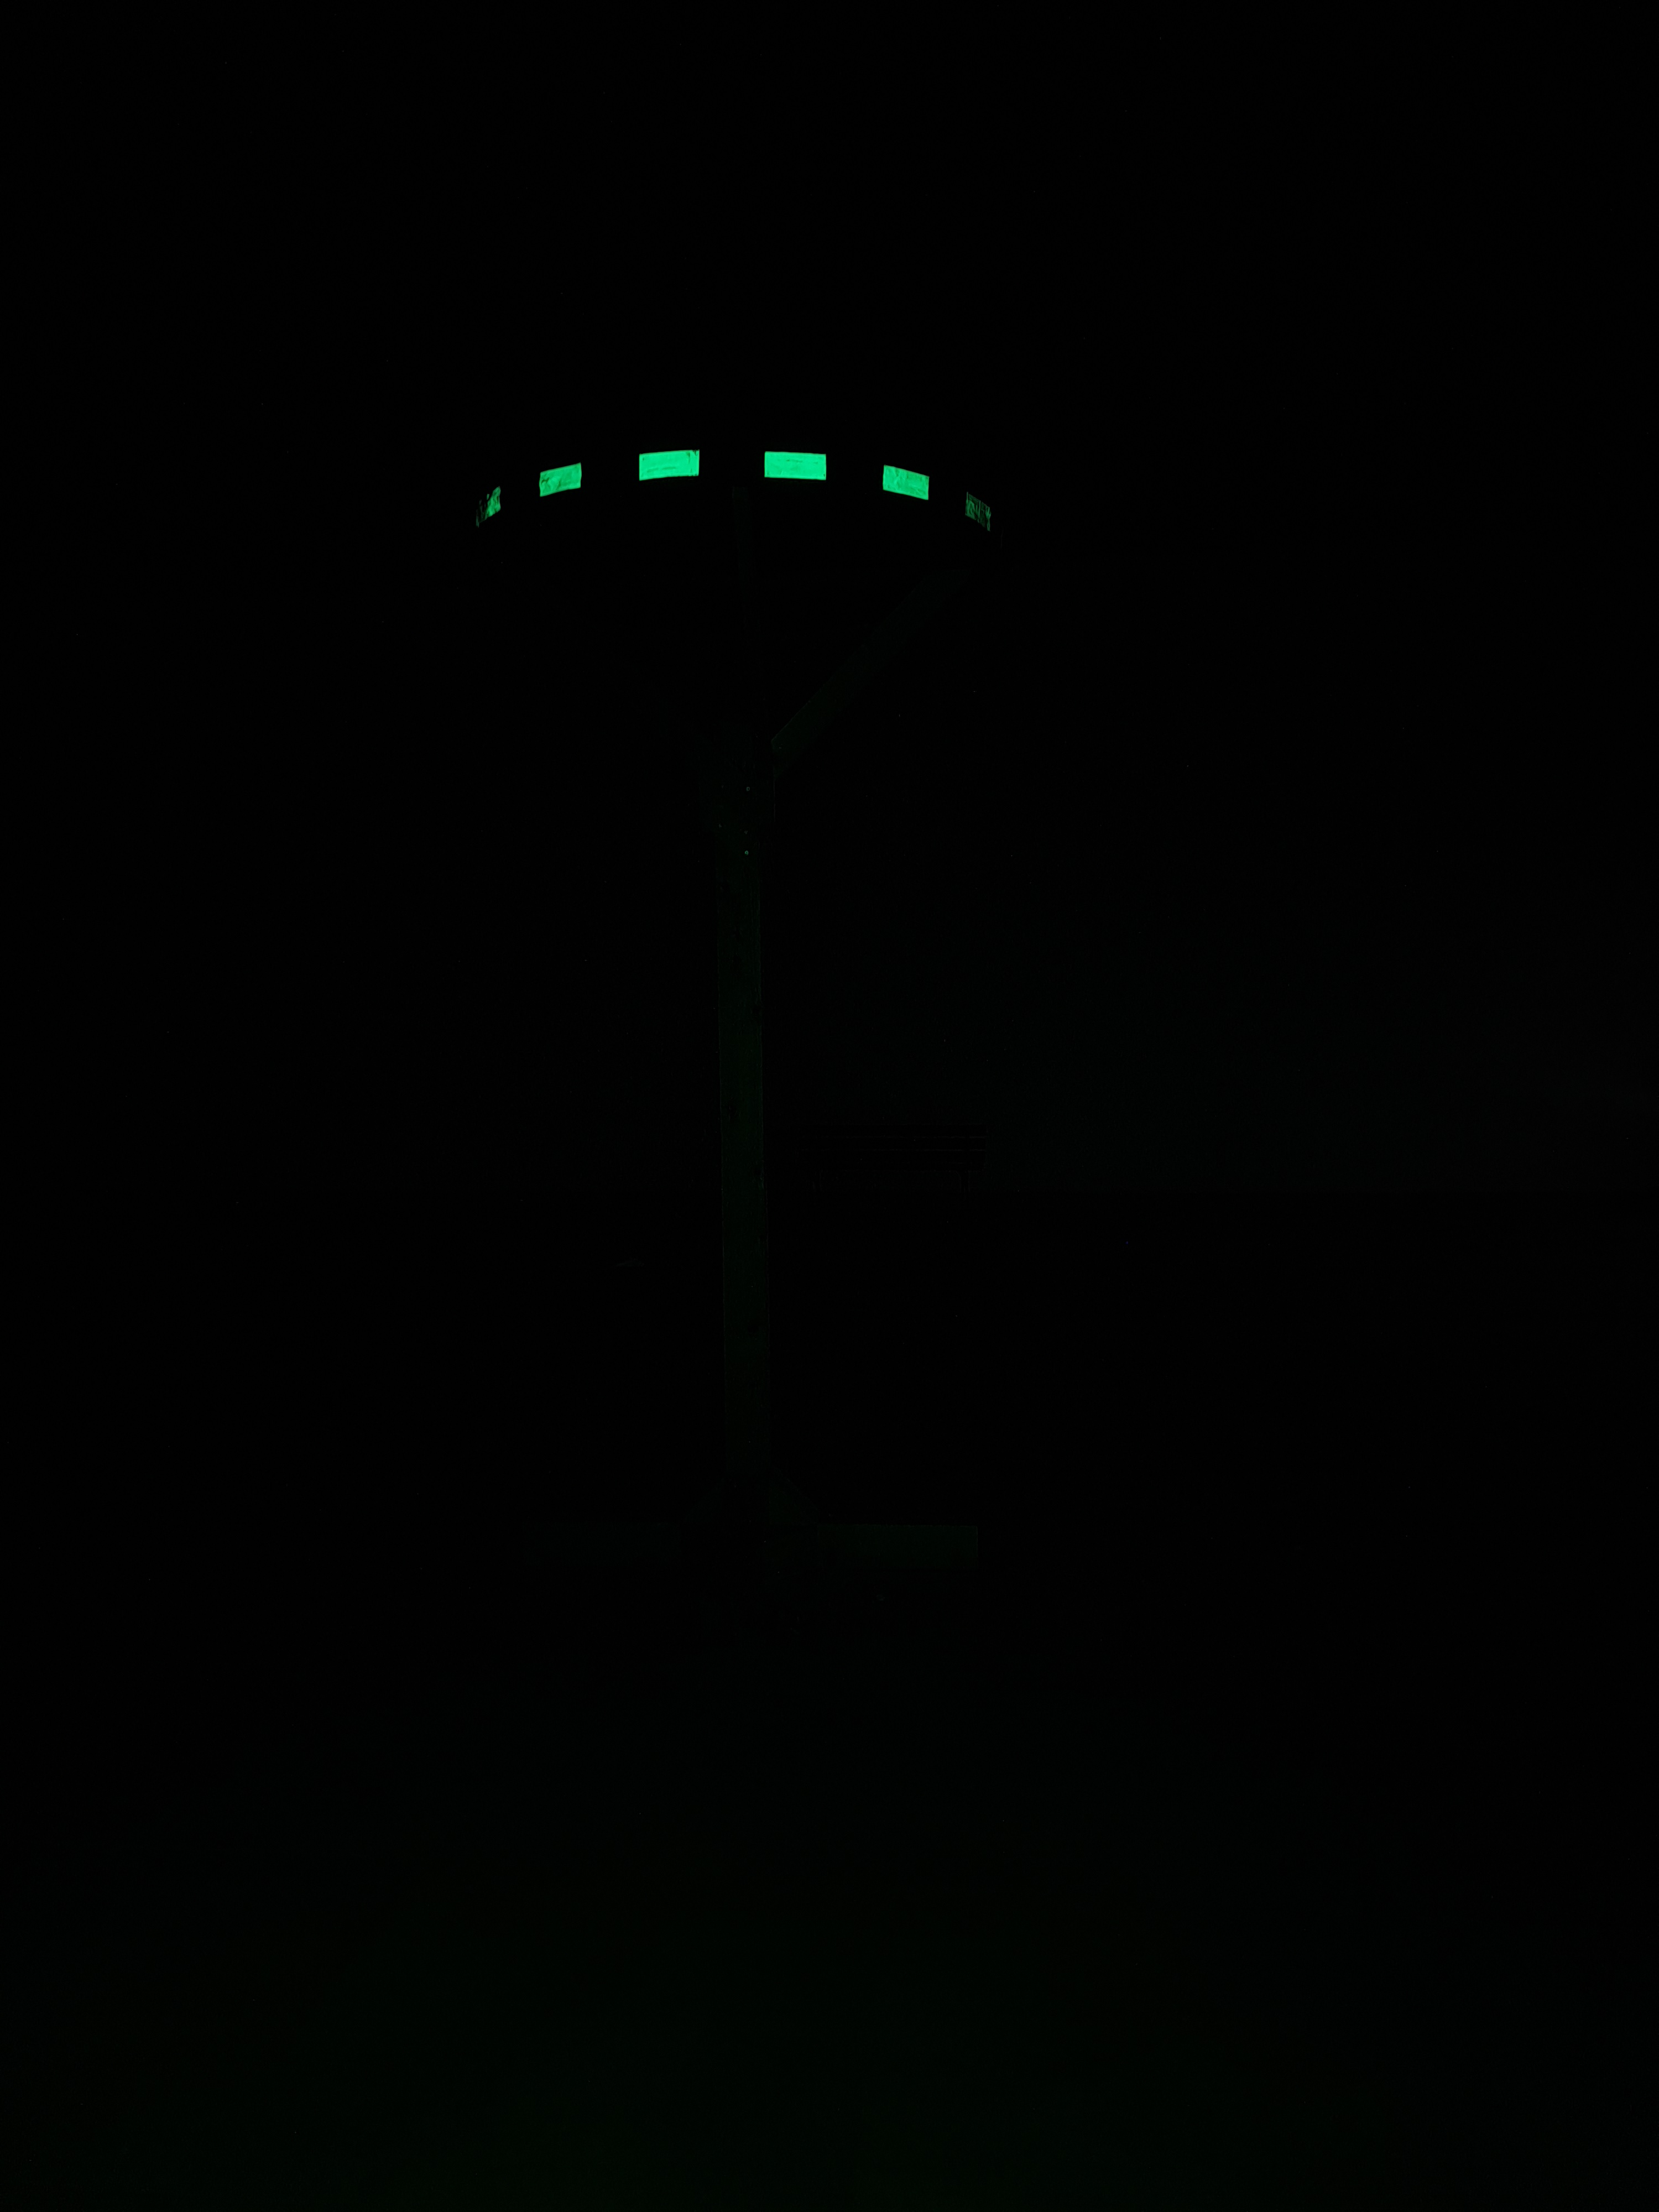hoop: (467, 435, 999, 545)
